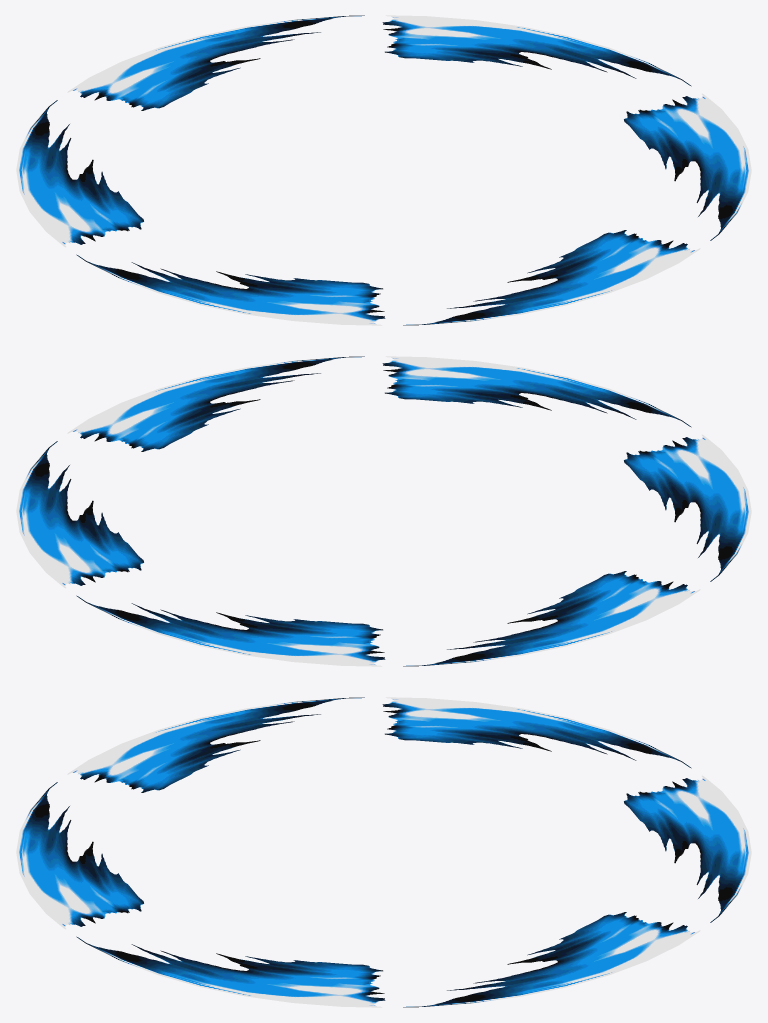
The model's file is Fbx_Dg_fsw_006.FBX.
3 renders of one model, top to bottom at view 1: azimuth 30°, elevation 25°; view 2: azimuth 150°, elevation 25°; view 3: azimuth 270°, elevation 25°, orthographic.
Parts seen in each view (by area): view 1: Fbx_Dg_fsw_006; view 2: Fbx_Dg_fsw_006; view 3: Fbx_Dg_fsw_006.
Boxes of the visible parts, bbox=[...] form: Fbx_Dg_fsw_006: bbox=[16, 15, 751, 325]; Fbx_Dg_fsw_006: bbox=[16, 356, 751, 666]; Fbx_Dg_fsw_006: bbox=[16, 697, 751, 1007].
Bounding box in the file's own units: 12796 × 8.3e-05 × 12798.
